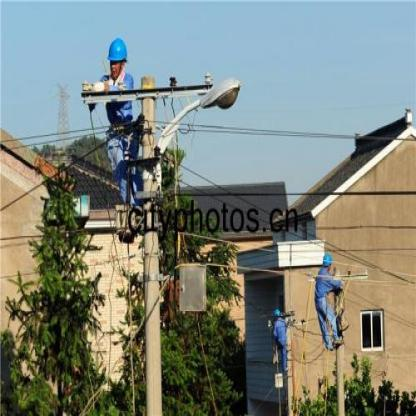helmet: (107, 34, 131, 77), (320, 251, 334, 277)
